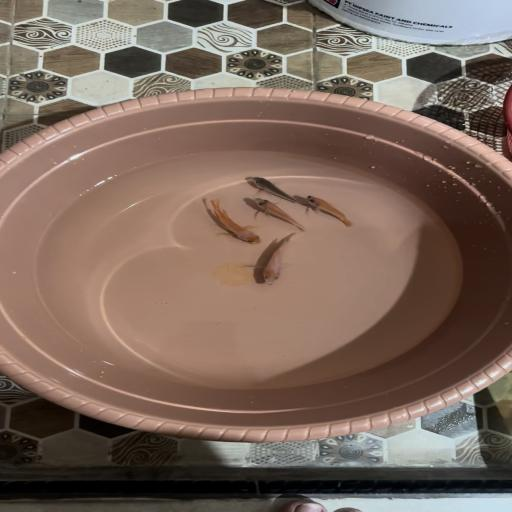nila: (249, 232, 308, 286), (199, 200, 269, 244), (249, 196, 311, 233), (304, 192, 358, 230), (249, 176, 305, 204)
